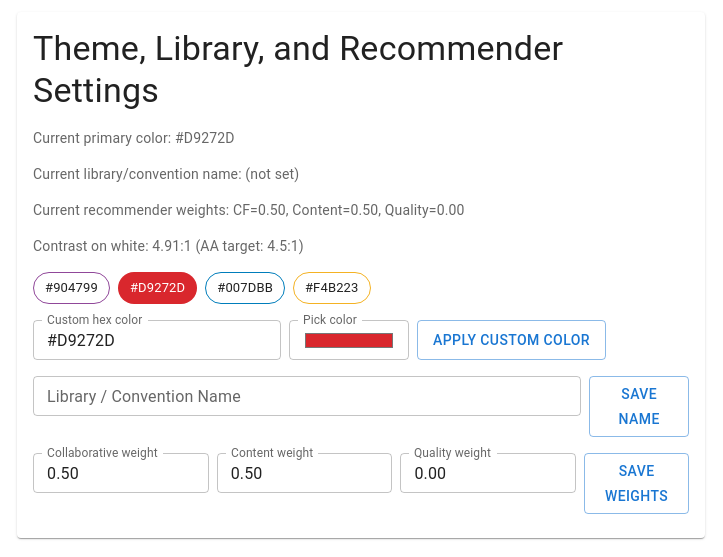
Scenario: AdminThemePage › allows applying a custom hex theme color
Expected: the text "Current primary color: #D9272D" is shown, [33,130,235,146]
In the field labelled "Custom hex color": (157, 340) [33,320,281,360], type "#123456"
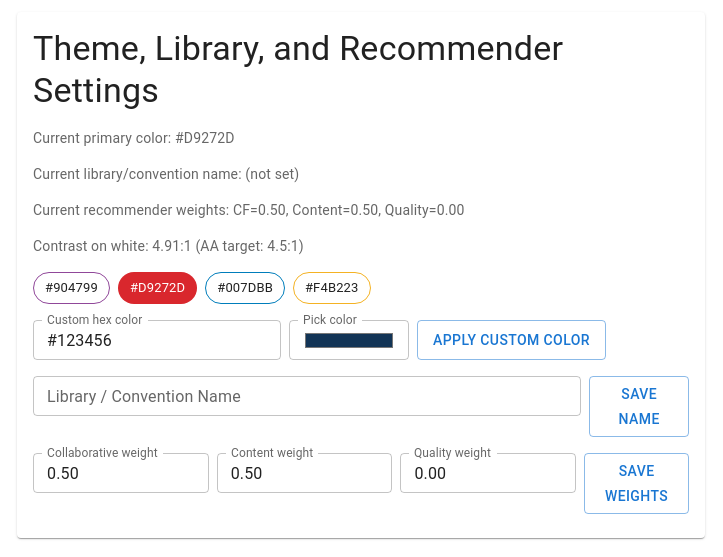
Click the button "Apply Custom Color": (511, 340) [417,320,606,360]
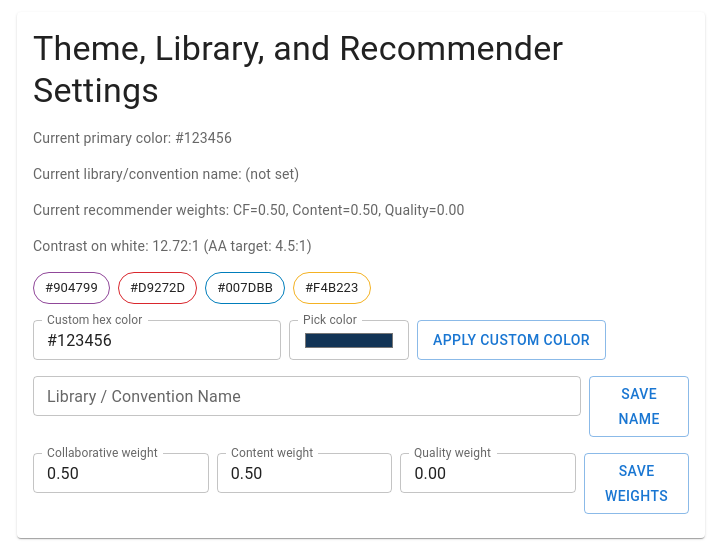
Expected: the text "Current primary color: #123456" is shown, [33,130,232,146]
